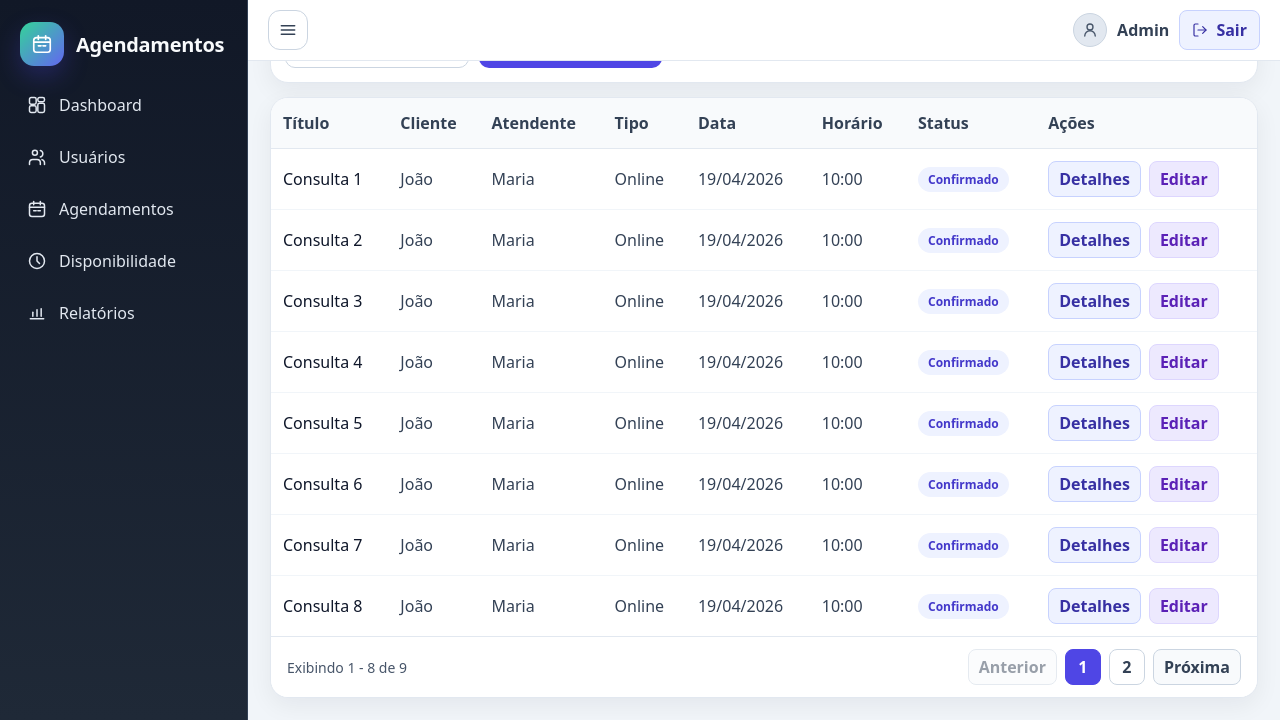
Test: Agendamentos - RQF2.2 Listagem › exibe paginação e navega entre páginas
The image size is (1280, 720).
(page scrolled)
Expected: the text "Exibindo 1 - 8 de 9" is shown, [287, 658, 407, 676]
Click the button "Próxima" at (1197,667), box [1153, 649, 1241, 685]
(page scrolled)
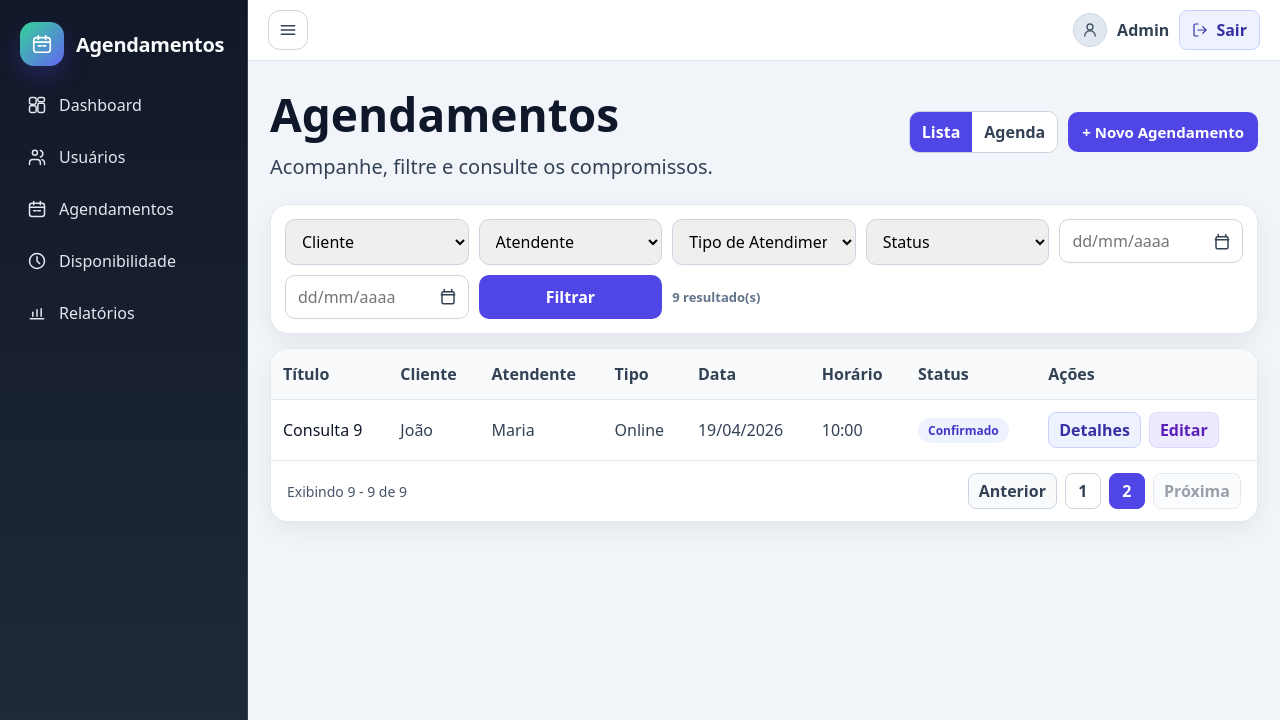
Result: the text "Exibindo 9 - 9 de 9" is shown at [287, 482, 407, 500]
Result: the text "Consulta 9" is shown at [271, 400, 388, 460]
